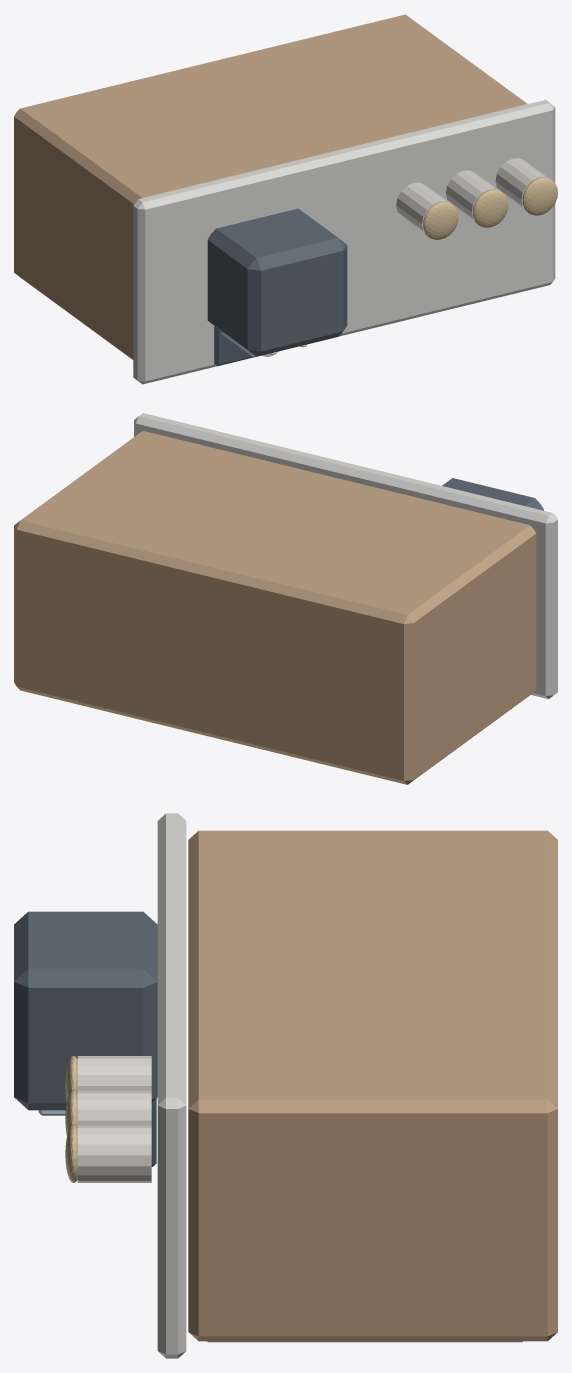
The model's file is prop-pantry.glb.
3 views of the same model, one above another, from view 1: azimuth 30°, elevation 25°; view 2: azimuth 150°, elevation 25°; view 3: azimuth 270°, elevation 25° (orthographic). The views are drawn at different scales.
Visible parts, largest first — view 1: 0000__pantry_cabinet, 0001__stone_counter, 0008__coffee_machine, 0014__pantry_jar, 0016__pantry_jar, 0018__pantry_jar, 0019__jar_lid, 0015__jar_lid, 0017__jar_lid, 0010__coffee_drip; view 2: 0000__pantry_cabinet, 0001__stone_counter, 0008__coffee_machine; view 3: 0000__pantry_cabinet, 0008__coffee_machine, 0001__stone_counter, 0018__pantry_jar, 0016__pantry_jar, 0014__pantry_jar.
Part boxes in pixels (left/top/right/bottom): 0000__pantry_cabinet: left=14, top=14, right=527, bottom=359; 0001__stone_counter: left=133, top=100, right=555, bottom=384; 0008__coffee_machine: left=207, top=208, right=347, bottom=356; 0014__pantry_jar: left=396, top=182, right=449, bottom=235; 0016__pantry_jar: left=446, top=170, right=499, bottom=222; 0018__pantry_jar: left=495, top=158, right=548, bottom=211; 0019__jar_lid: left=522, top=177, right=557, bottom=215; 0015__jar_lid: left=423, top=202, right=458, bottom=239; 0017__jar_lid: left=472, top=190, right=508, bottom=227; 0010__coffee_drip: left=214, top=326, right=253, bottom=366; 0000__pantry_cabinet: left=14, top=431, right=536, bottom=784; 0001__stone_counter: left=134, top=413, right=557, bottom=698; 0008__coffee_machine: left=442, top=478, right=543, bottom=510; 0000__pantry_cabinet: left=188, top=830, right=557, bottom=1341; 0008__coffee_machine: left=14, top=911, right=157, bottom=1110; 0001__stone_counter: left=157, top=813, right=186, bottom=1358; 0018__pantry_jar: left=77, top=1125, right=151, bottom=1182; 0016__pantry_jar: left=77, top=1090, right=151, bottom=1125; 0014__pantry_jar: left=77, top=1056, right=151, bottom=1090.
Bounding box in the file's own units: 1.68 × 0.719 × 1.33.
